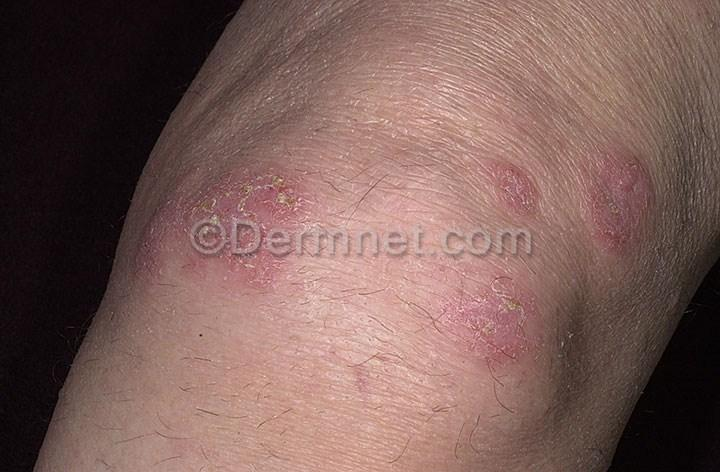Eczema: (148, 161, 327, 315), (562, 117, 698, 279), (408, 262, 554, 403), (470, 105, 549, 224)
